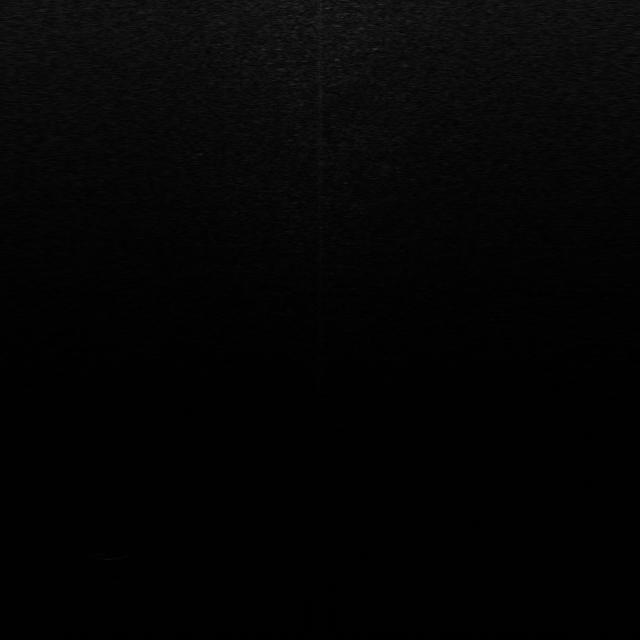tyre: (84, 546, 130, 562)
